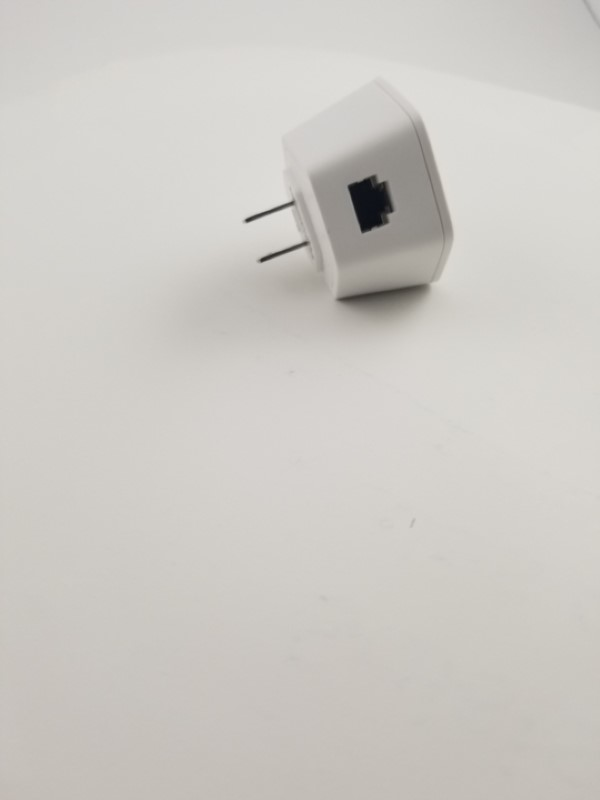pod: (232, 61, 462, 314)
